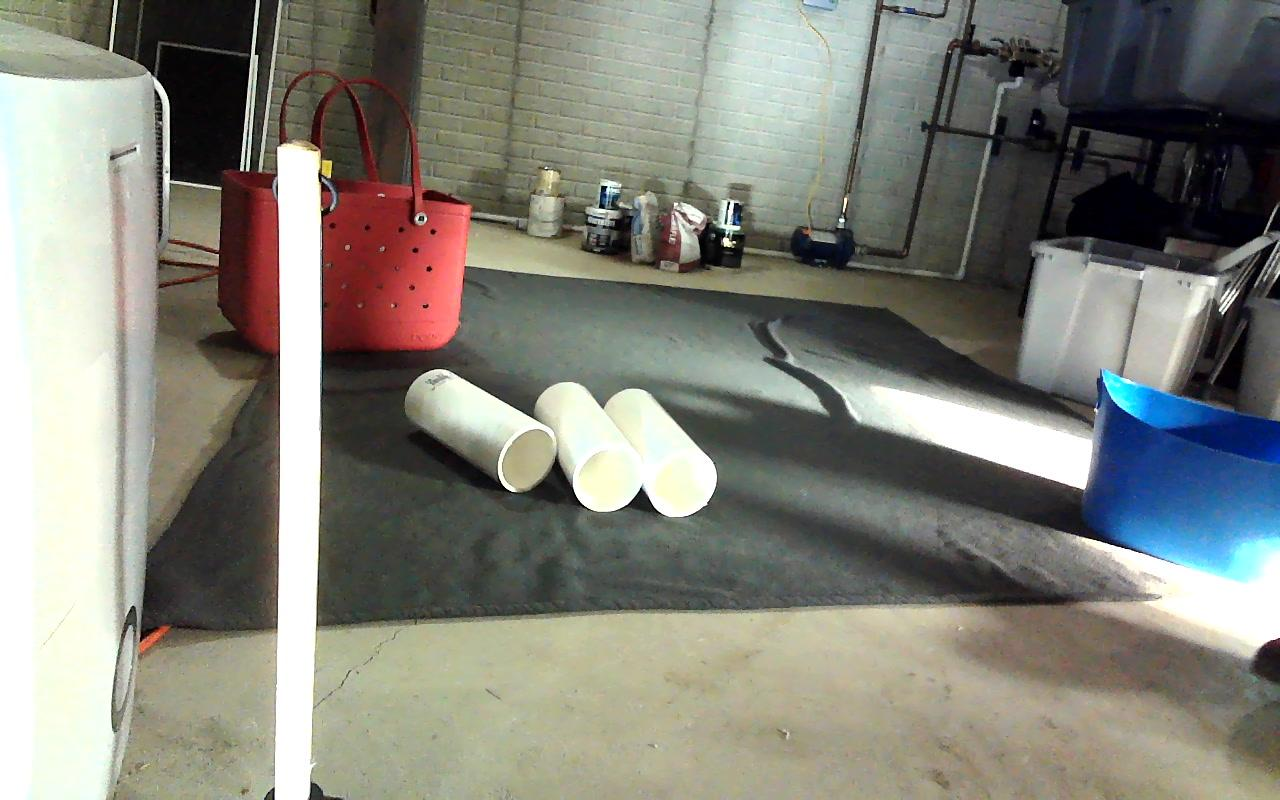coral: (404, 369, 555, 492), (537, 381, 642, 513), (610, 388, 715, 515)
